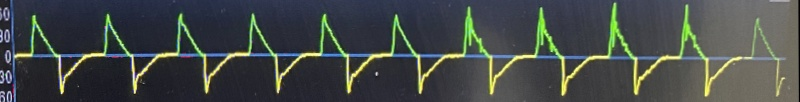hydrop_flow: (461, 3, 740, 102)
normal_flow: (14, 6, 449, 99)
